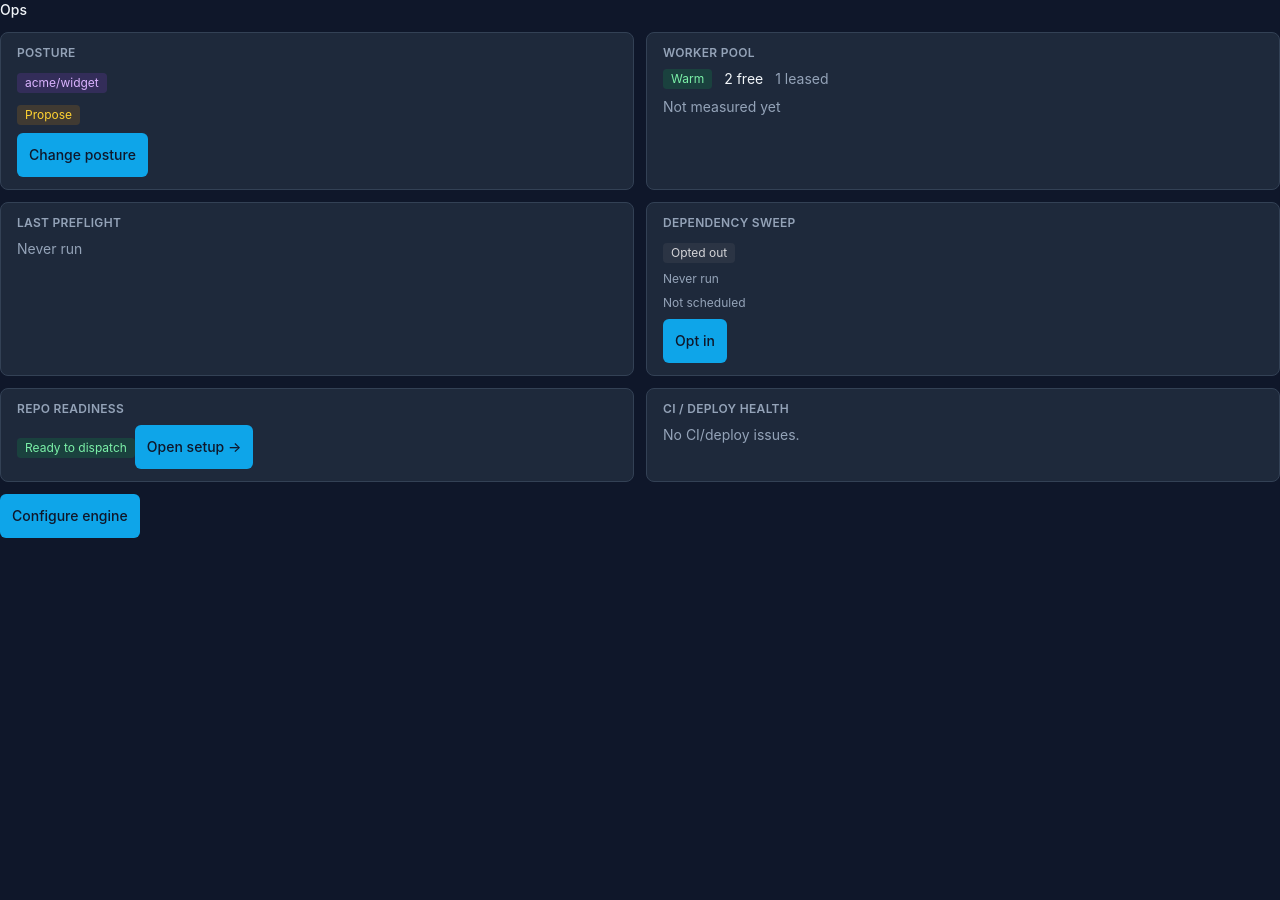
it: EngineOpsPanel › opens the posture confirm modal from the Change posture button
What coordinates should you click on to do the following:
click the button with test id "engine-ops-posture-change-button"
I would click on:
 (82, 155)
Its box is [17,133,148,177].
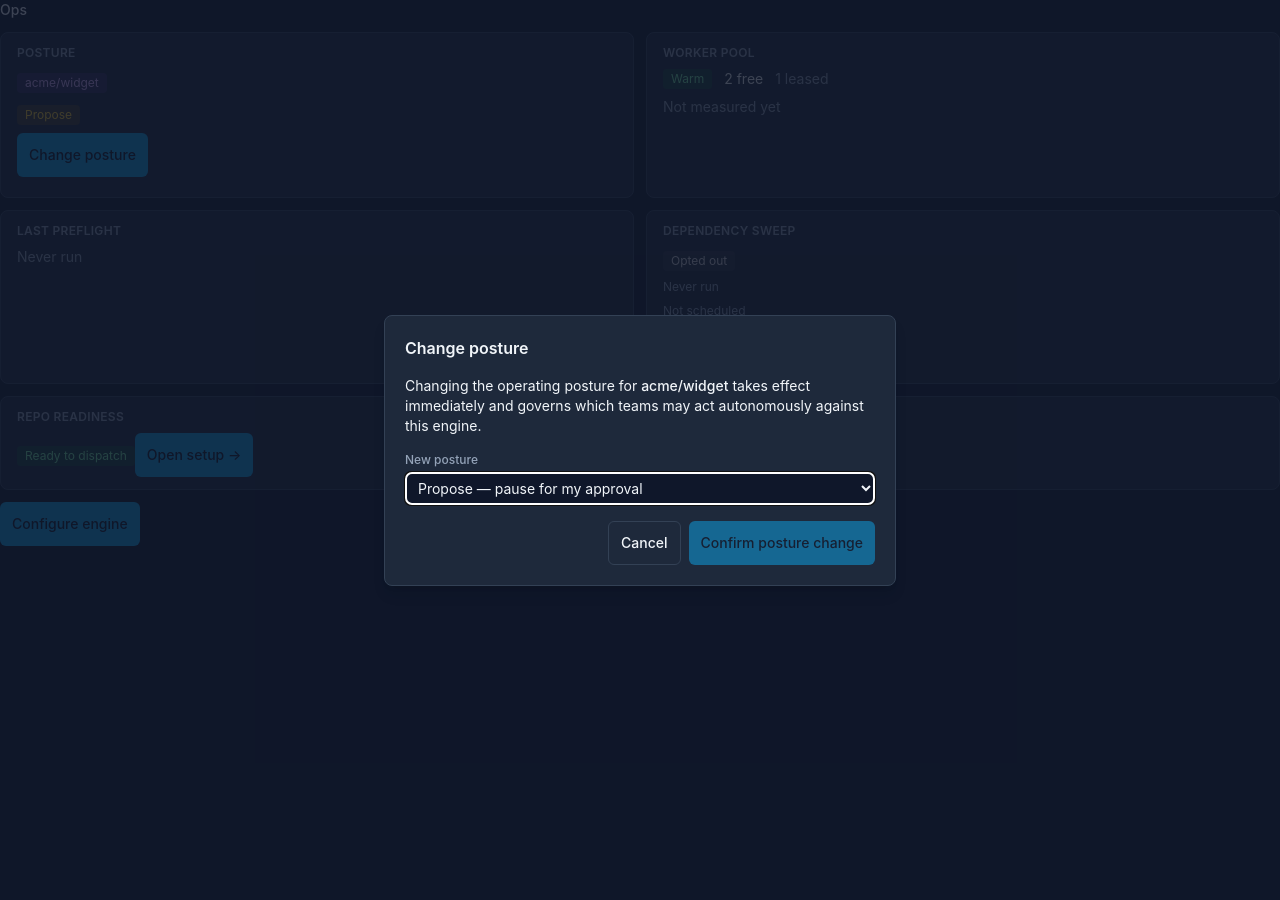
Check: the dialog with test id "posture-confirm-dialog" is shown, box [384,314,896,586]
